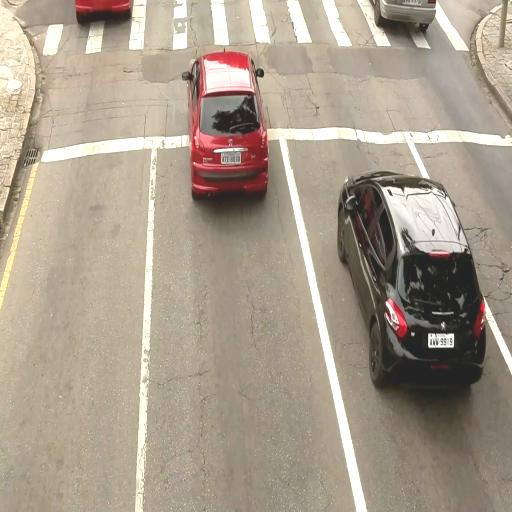car: (330, 160, 491, 402), (182, 46, 273, 208), (365, 1, 436, 33), (74, 0, 133, 22)
